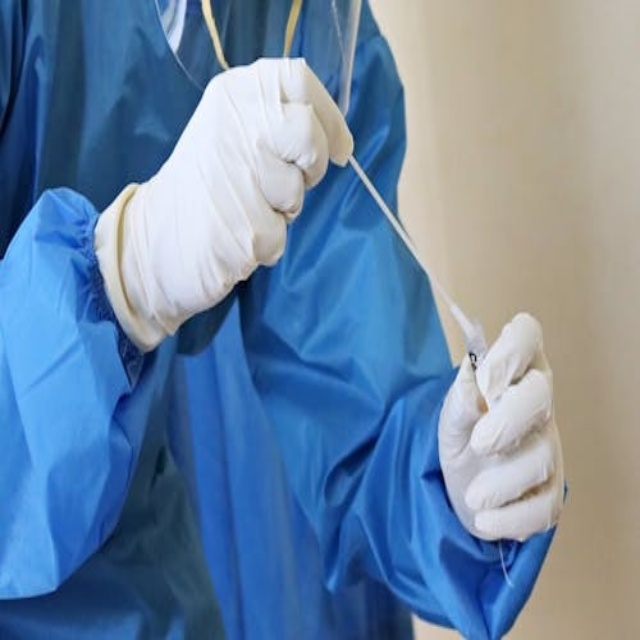Guantes: (97, 54, 355, 352), (437, 308, 563, 548)
